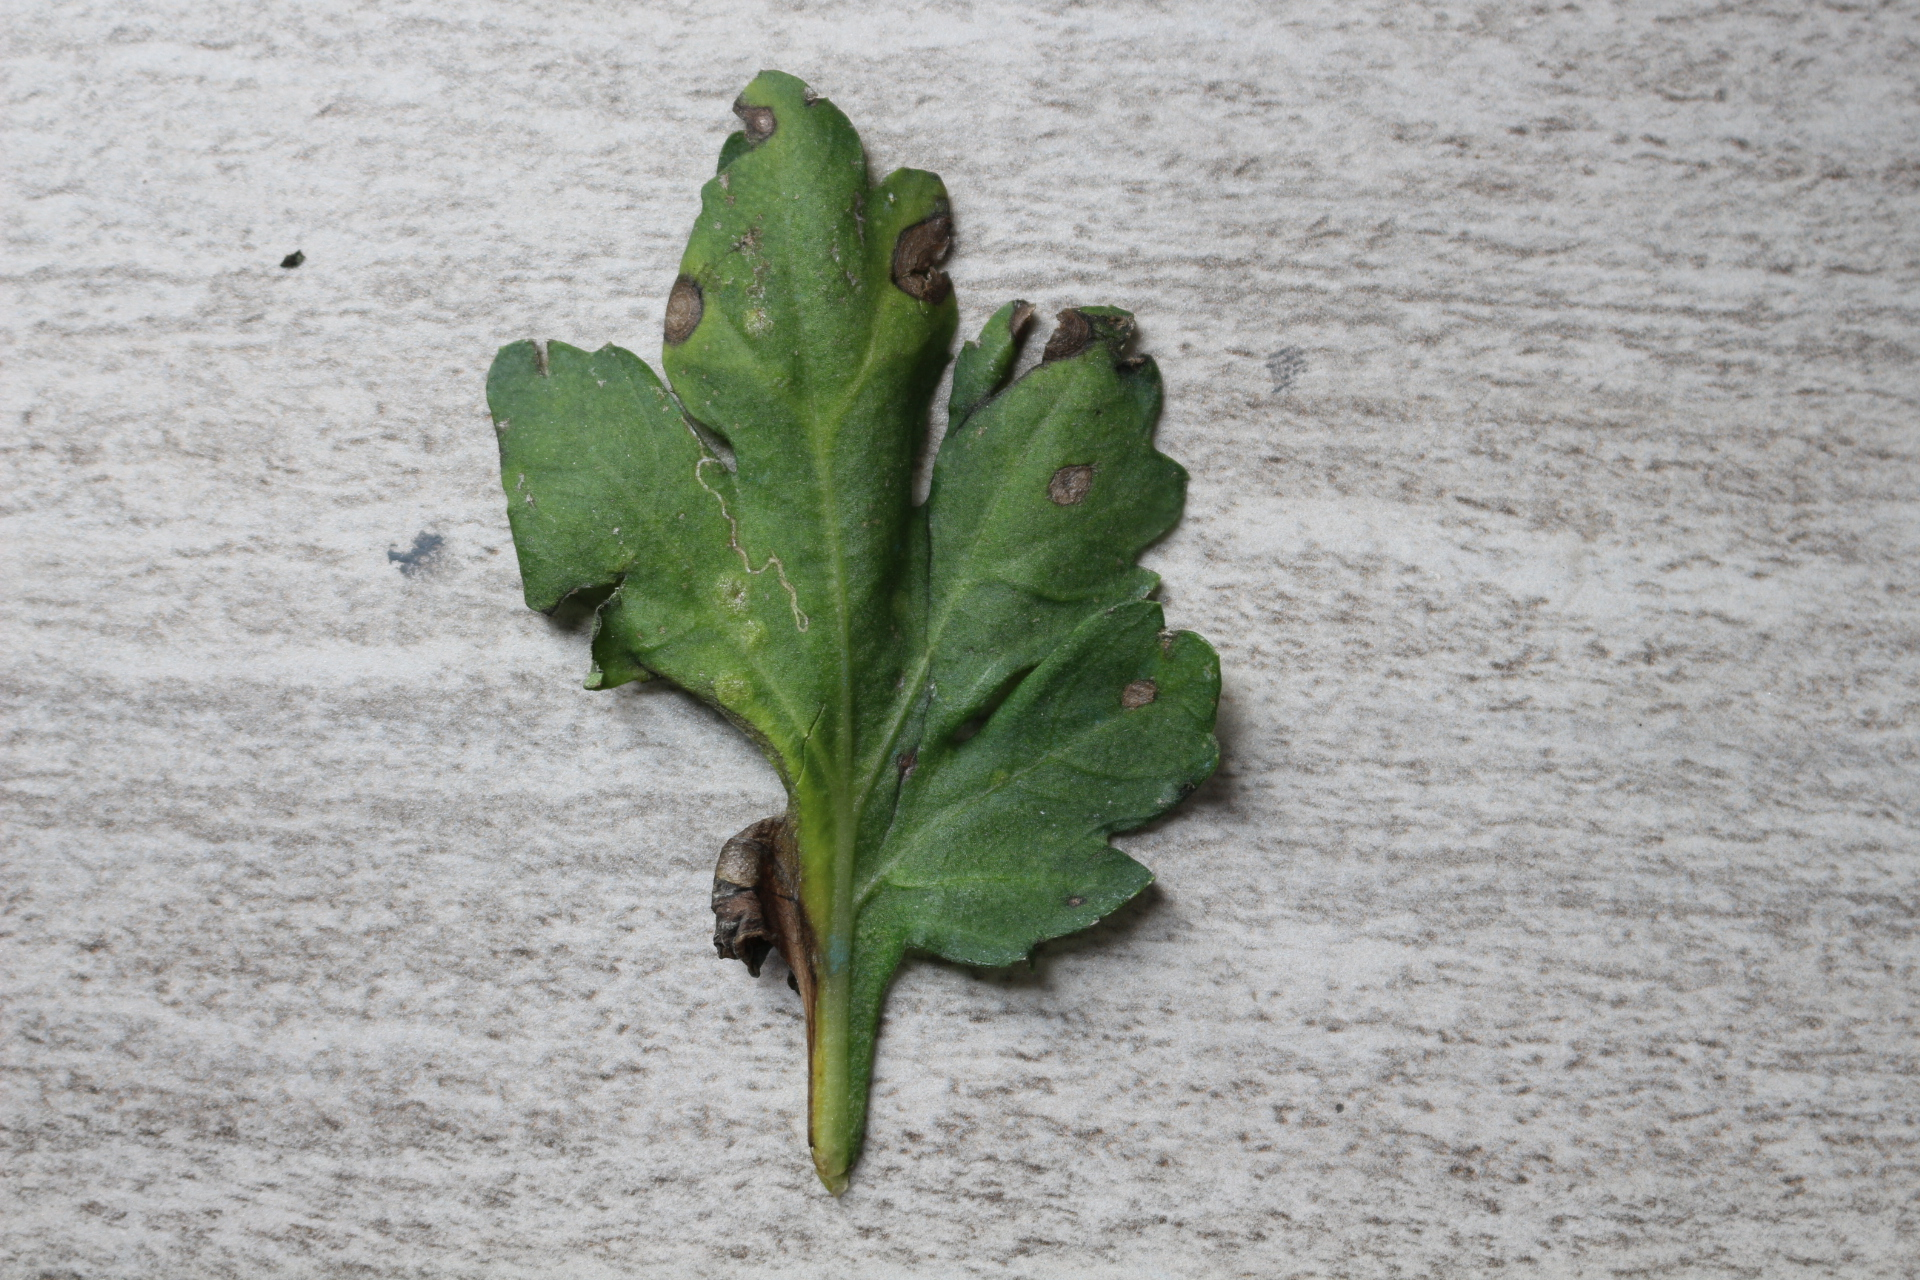namden: (889, 211, 954, 309), (1041, 461, 1104, 511), (656, 286, 711, 339), (1113, 674, 1169, 711), (739, 99, 784, 139)
